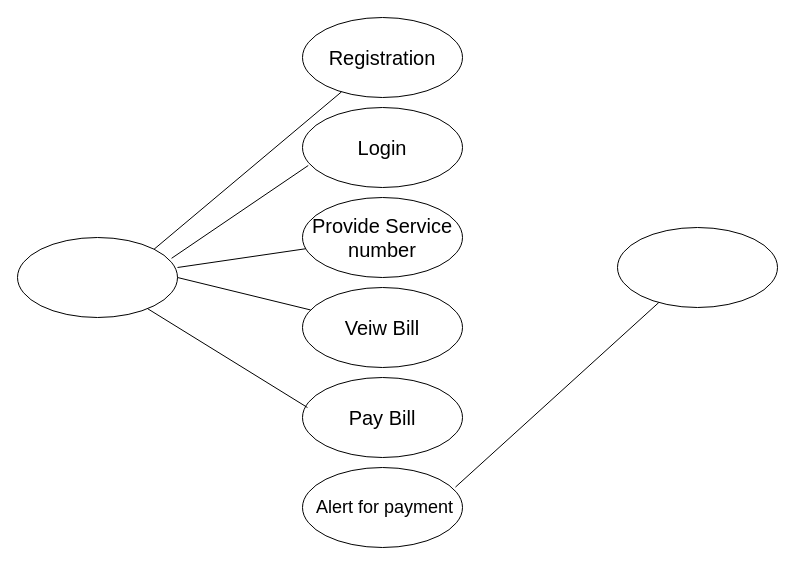
The diagram is 795 pixels wide and 565 high, and some of its shapes have lost their labels. The centre of each missing label's shape, as x and y in pixels:
Paytm: pixel 697 267
User: pixel 97 277
